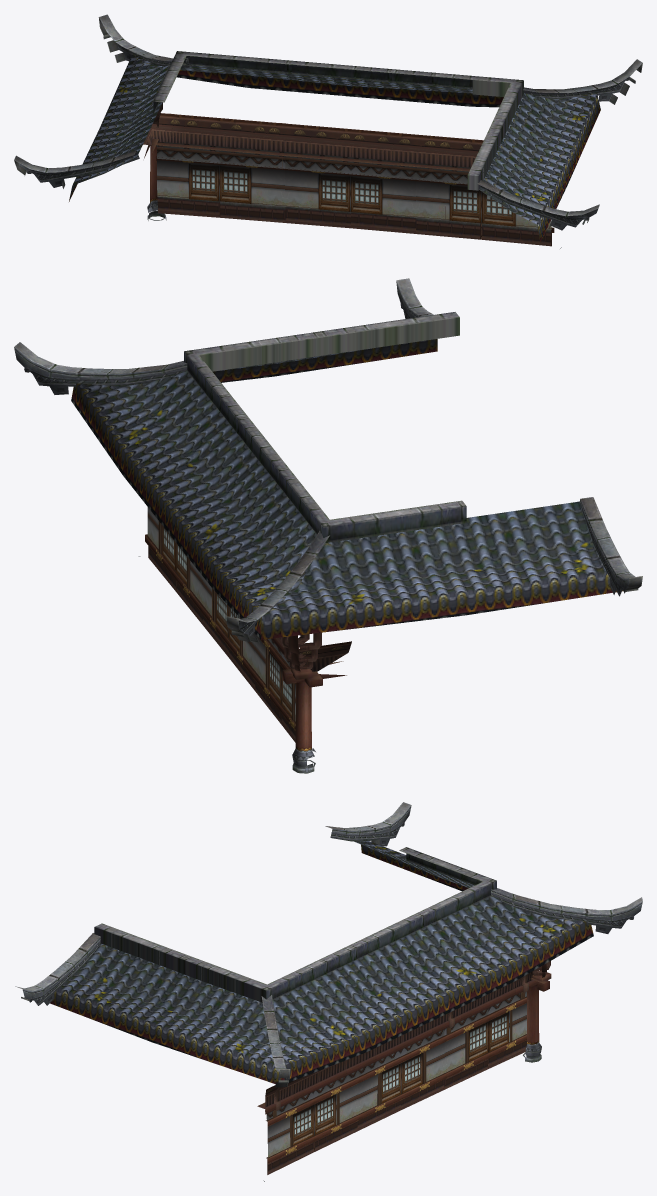
The model's file is S2_Build_XSC058_H1.FBX.
3 views of the same model, one above another, from view 1: azimuth 30°, elevation 25°; view 2: azimuth 150°, elevation 25°; view 3: azimuth 270°, elevation 25° (orthographic). The views are drawn at different scales.
Visible parts, largest first — view 1: S2_Build_XSC058_H1; view 2: S2_Build_XSC058_H1; view 3: S2_Build_XSC058_H1.
Part boxes in pixels (x1,y1,x2,y2): S2_Build_XSC058_H1: (14,14,642,248); S2_Build_XSC058_H1: (14,278,642,773); S2_Build_XSC058_H1: (15,802,642,1181).
Size of the model in its own units: 8263 by 2543 by 8069.
